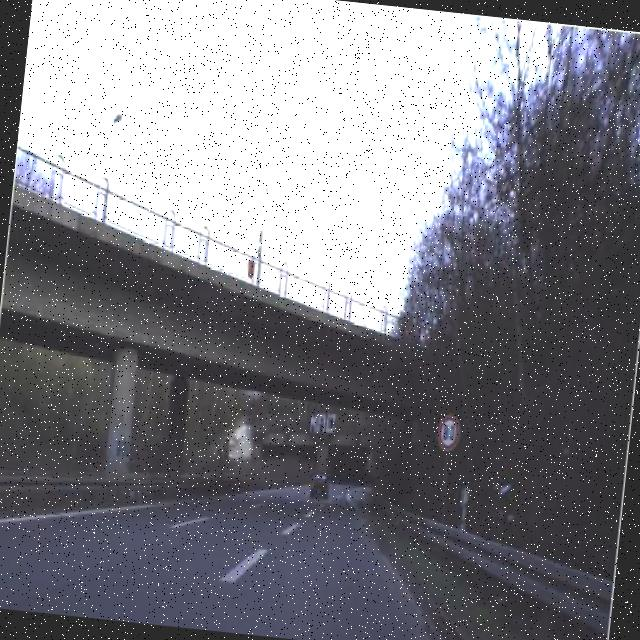Ograniczenie predkosci do 80: (432, 409, 464, 456)
